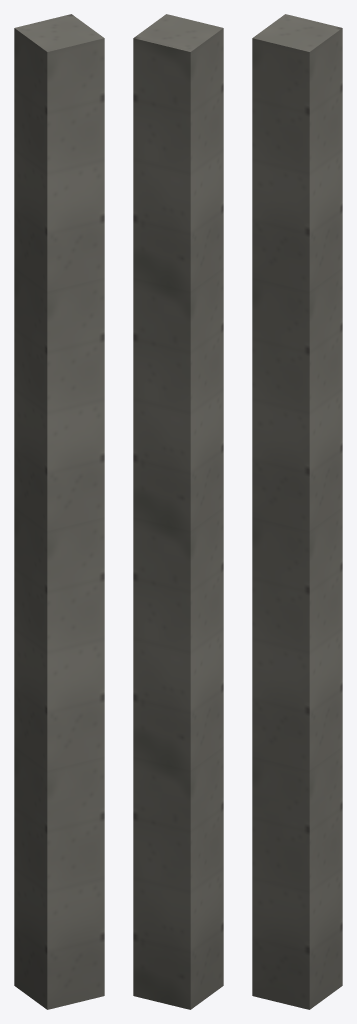
File: wall_bunker_post_raw.glb
3 views of the same model, side by side, from view 1: azimuth 30°, elevation 25°; view 2: azimuth 150°, elevation 25°; view 3: azimuth 330°, elevation 25° (orthographic).
Parts seen in each view (by area): view 1: wall_bunker_post_raw; view 2: wall_bunker_post_raw; view 3: wall_bunker_post_raw.
Part boxes in pixels (<box>): wall_bunker_post_raw: <box>14,14,104,1009</box>; wall_bunker_post_raw: <box>133,14,223,1009</box>; wall_bunker_post_raw: <box>252,14,342,1009</box>.
Size of the model in its own units: 0.25 by 4 by 0.25.
Materials: 1 (1 with a texture image).
